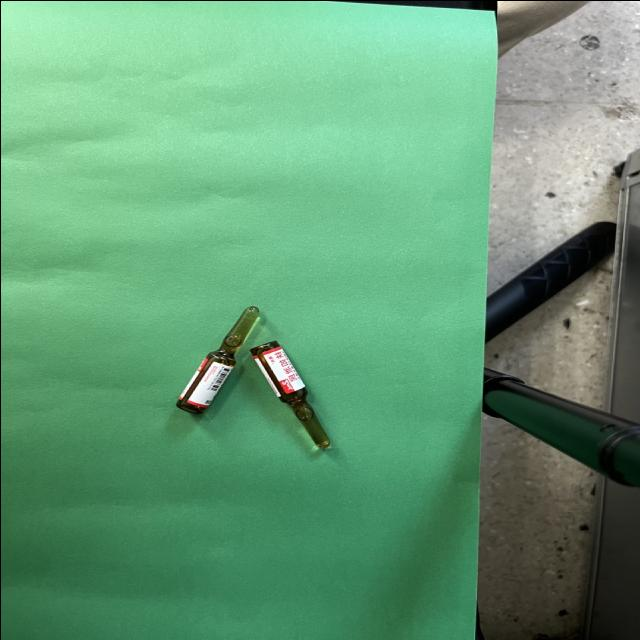Ampoules: (176, 305, 258, 413), (251, 340, 329, 448)
